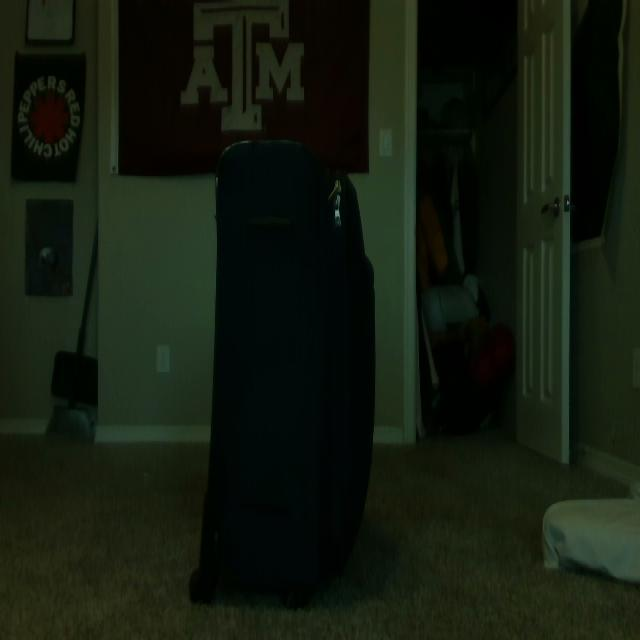suitcase: (188, 136, 378, 608)
